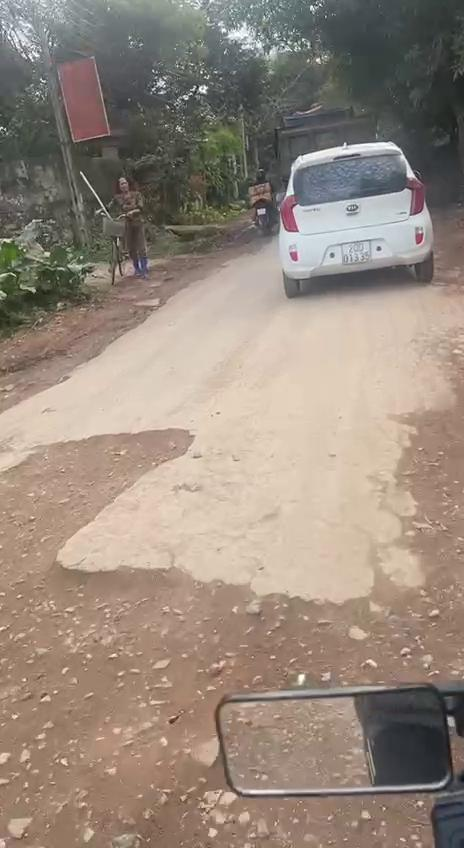pothole: (0, 558, 464, 848), (0, 420, 207, 576), (381, 398, 464, 618)
